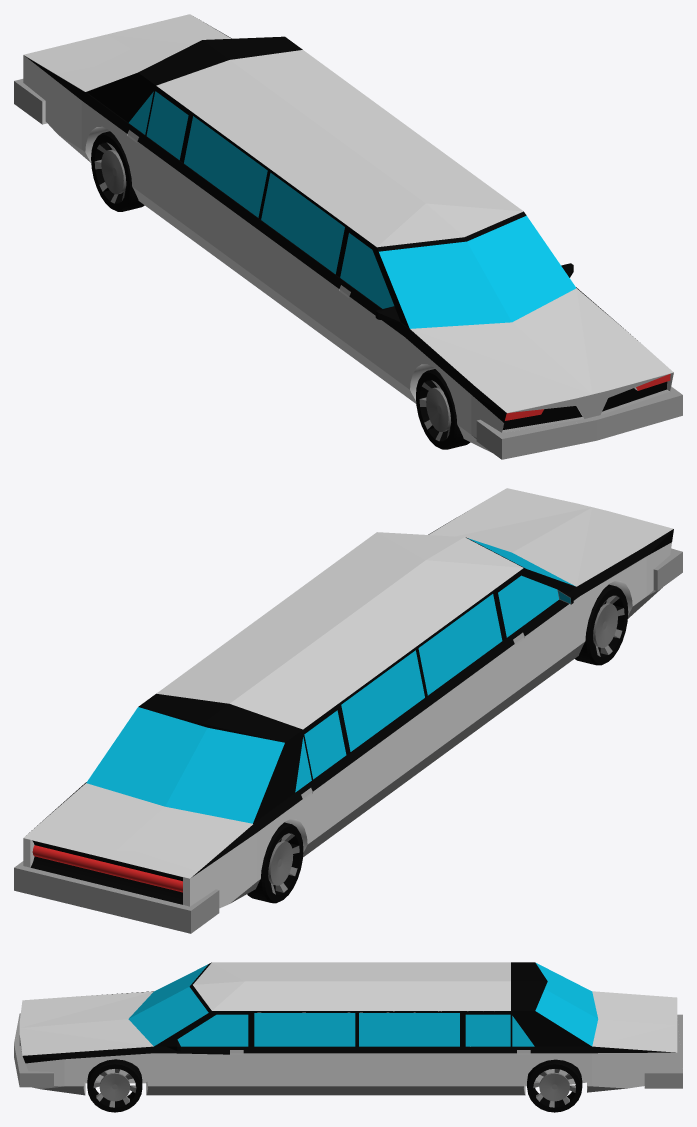
File: limuzinv-2.fbx
3 views of the same model, one above another, from view 1: azimuth 30°, elevation 25°; view 2: azimuth 150°, elevation 25°; view 3: azimuth 270°, elevation 25° (orthographic). The views are drawn at different scales.
Parts seen in each view (by area): view 1: body, on_teker, arka_teker; view 2: body, arka_teker, on_teker; view 3: body, on_teker, arka_teker.
Part boxes in pixels (bbox=[...]): body: bbox=[14, 14, 682, 459]; on_teker: bbox=[416, 369, 470, 449]; arka_teker: bbox=[91, 131, 144, 211]; body: bbox=[14, 488, 682, 933]; arka_teker: bbox=[247, 822, 303, 903]; on_teker: bbox=[575, 584, 628, 665]; body: bbox=[14, 962, 682, 1095]; on_teker: bbox=[87, 1059, 142, 1112]; arka_teker: bbox=[527, 1059, 582, 1112].
Size of the model in its own units: 191 by 142 by 837.
